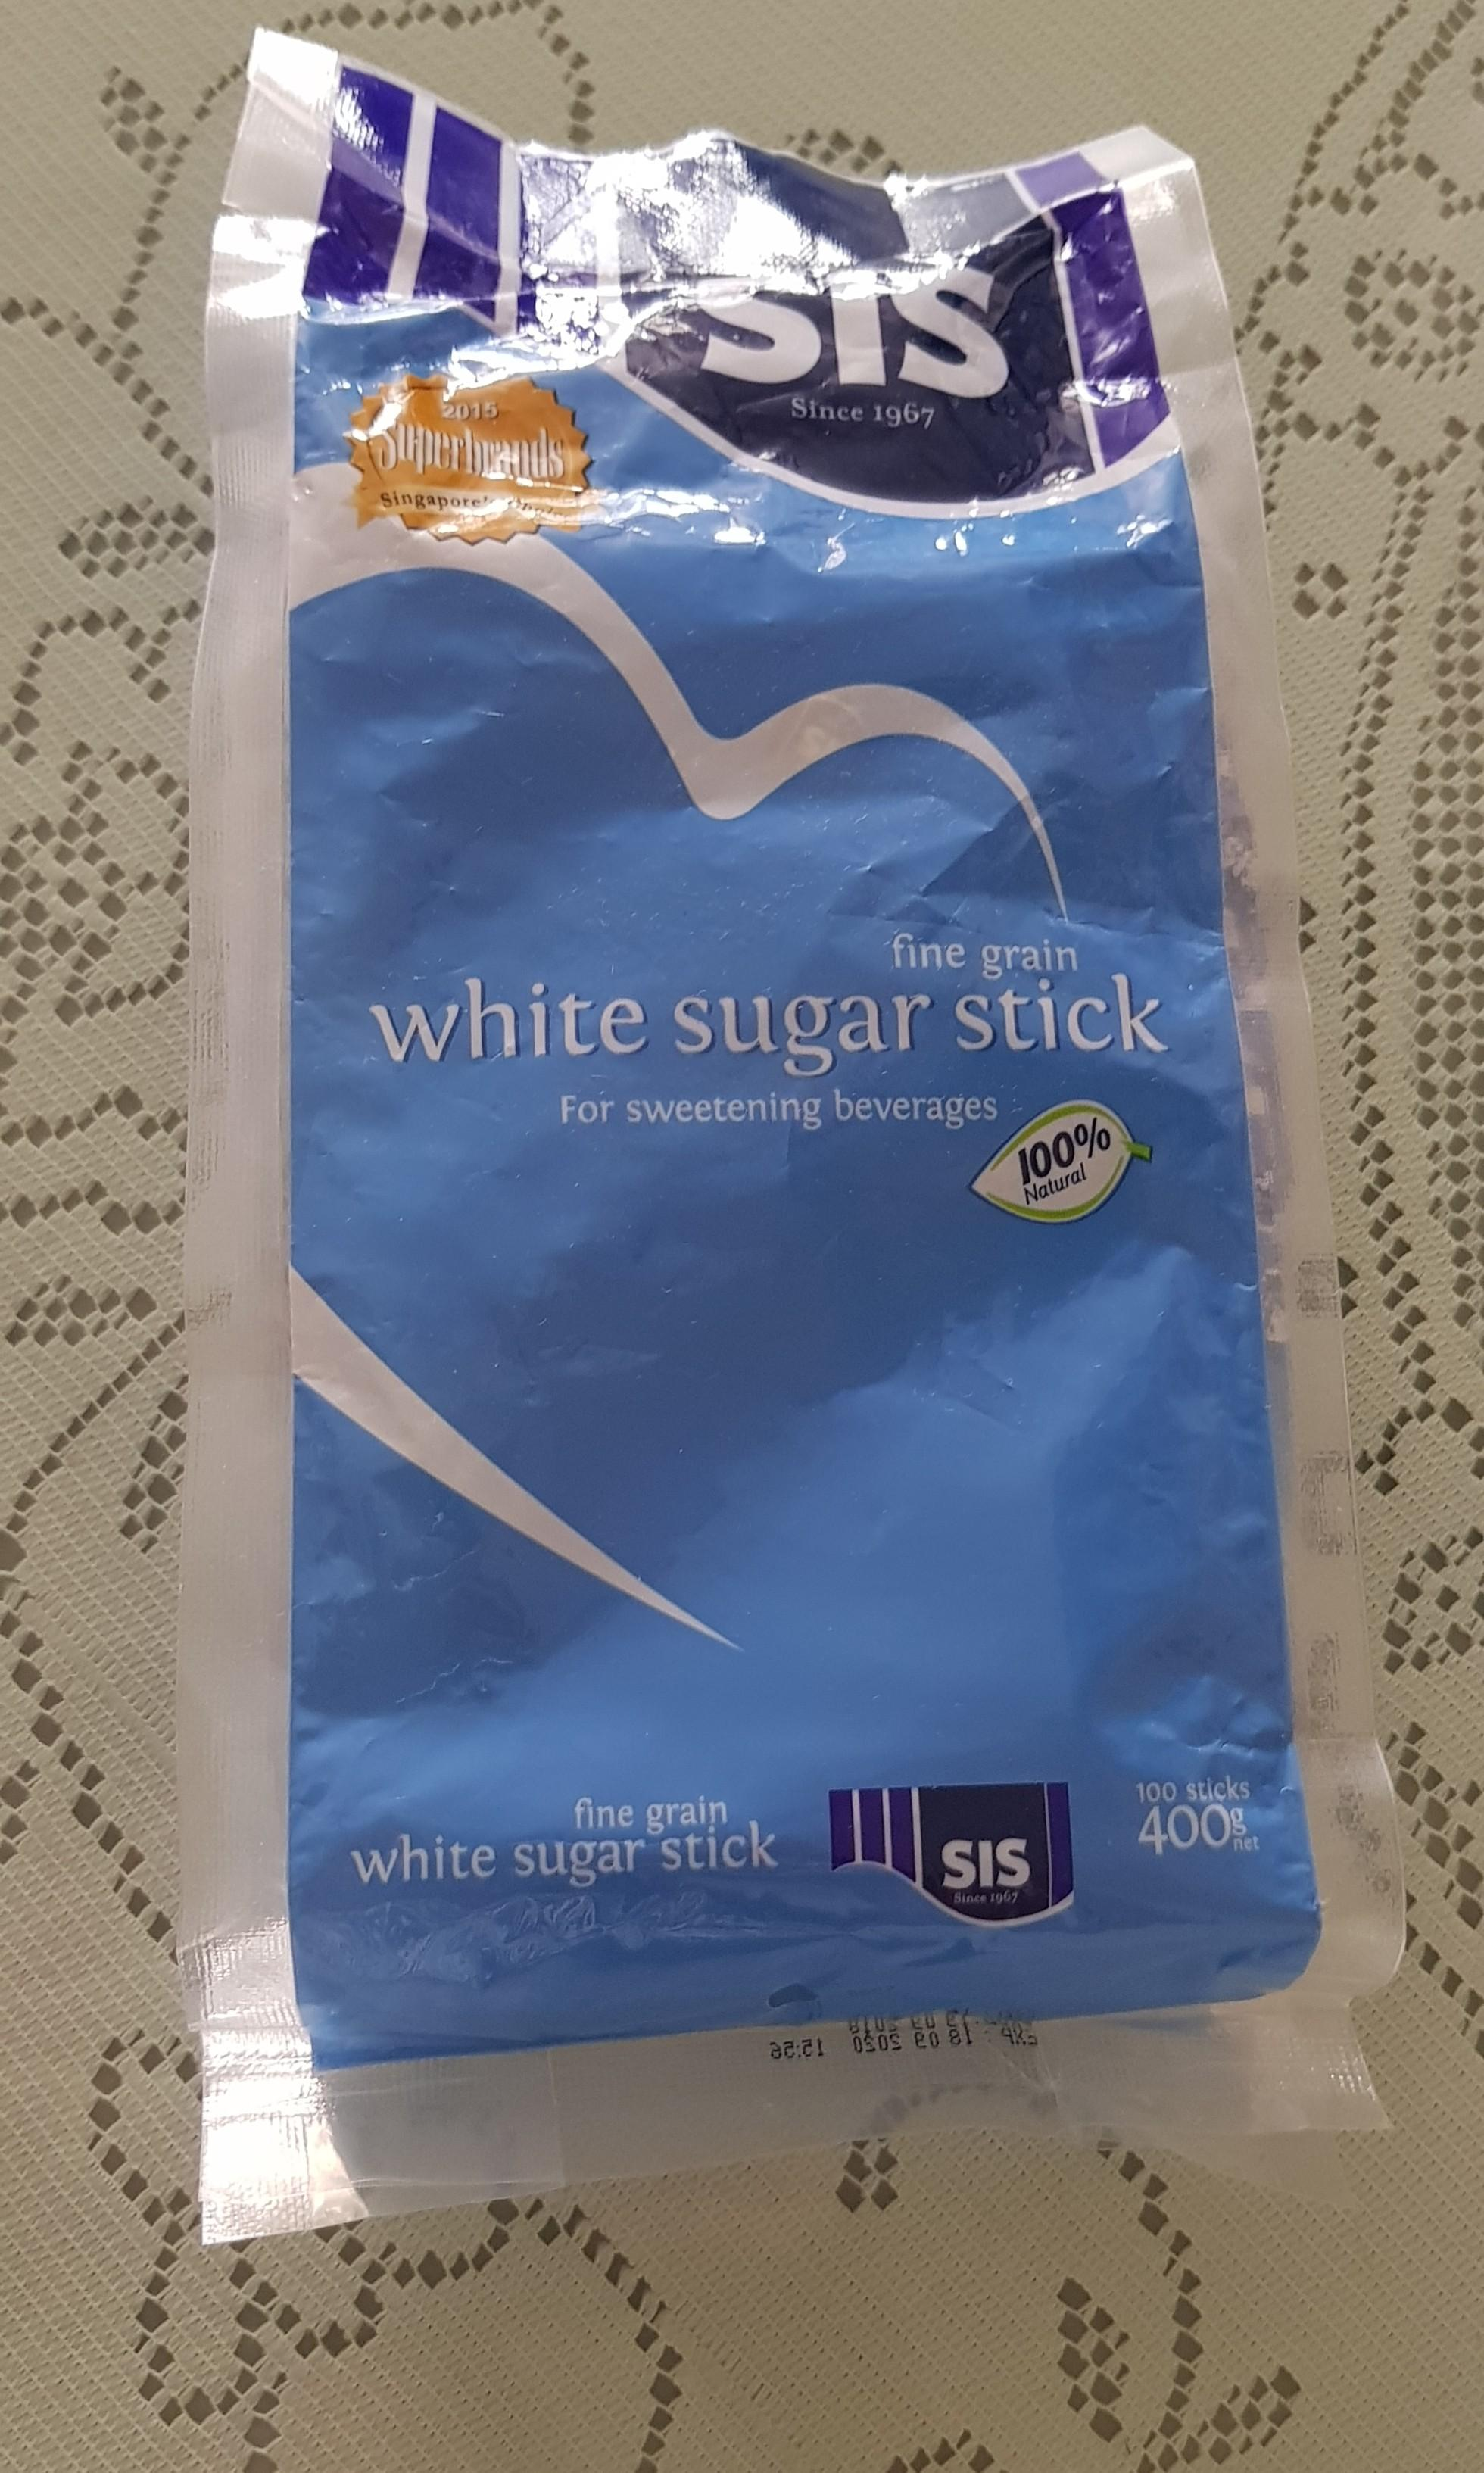sis white sugar: (207, 95, 1298, 2235)
